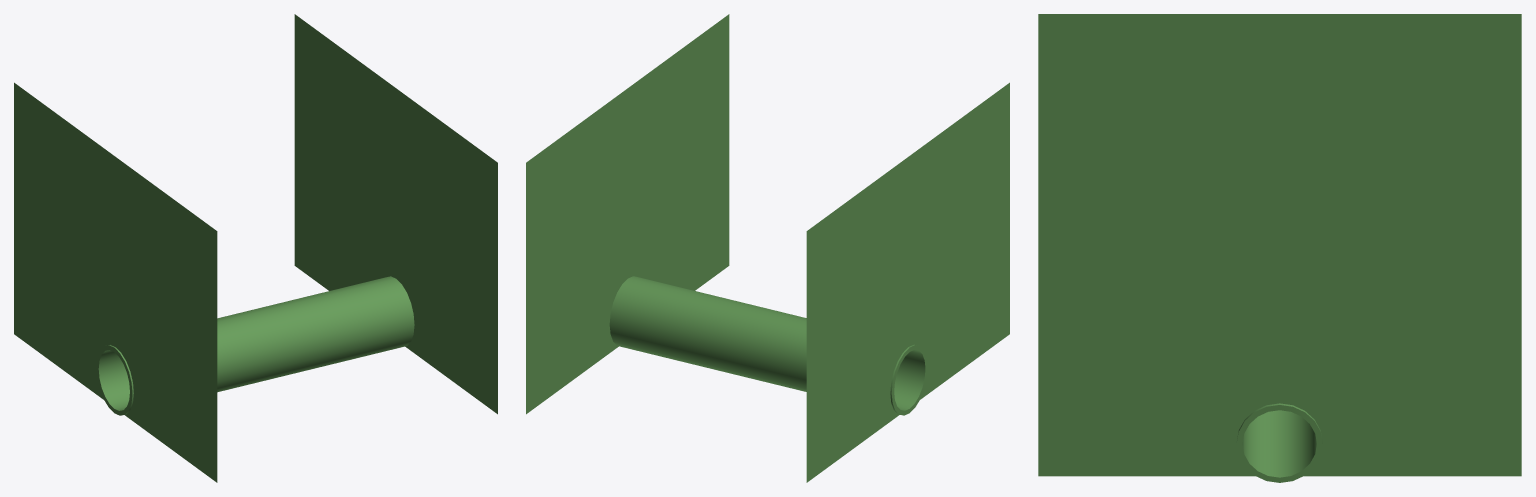
The picture shows the model from 3 angles, left to right: view 1: azimuth 30°, elevation 25°; view 2: azimuth 150°, elevation 25°; view 3: azimuth 270°, elevation 25°; orthographic projection. The views are drawn at different scales.
Visible parts, largest first — view 1: TubeWall, TubeWall1, Tube; view 2: TubeWall, TubeWall1, Tube; view 3: TubeWall1, TubeWall, Tube.
Boxes of the visible parts, x1,y1,x2,y2 form: TubeWall: (14,82,217,482); TubeWall1: (294,14,497,414); Tube: (96,276,414,415); TubeWall: (806,82,1009,482); TubeWall1: (526,14,729,414); Tube: (609,276,927,415); TubeWall1: (1038,177,1521,476); TubeWall: (1038,14,1521,176); Tube: (1236,403,1322,482).
Size of the model in its own units: 7.5 by 6.45 by 9.27.
